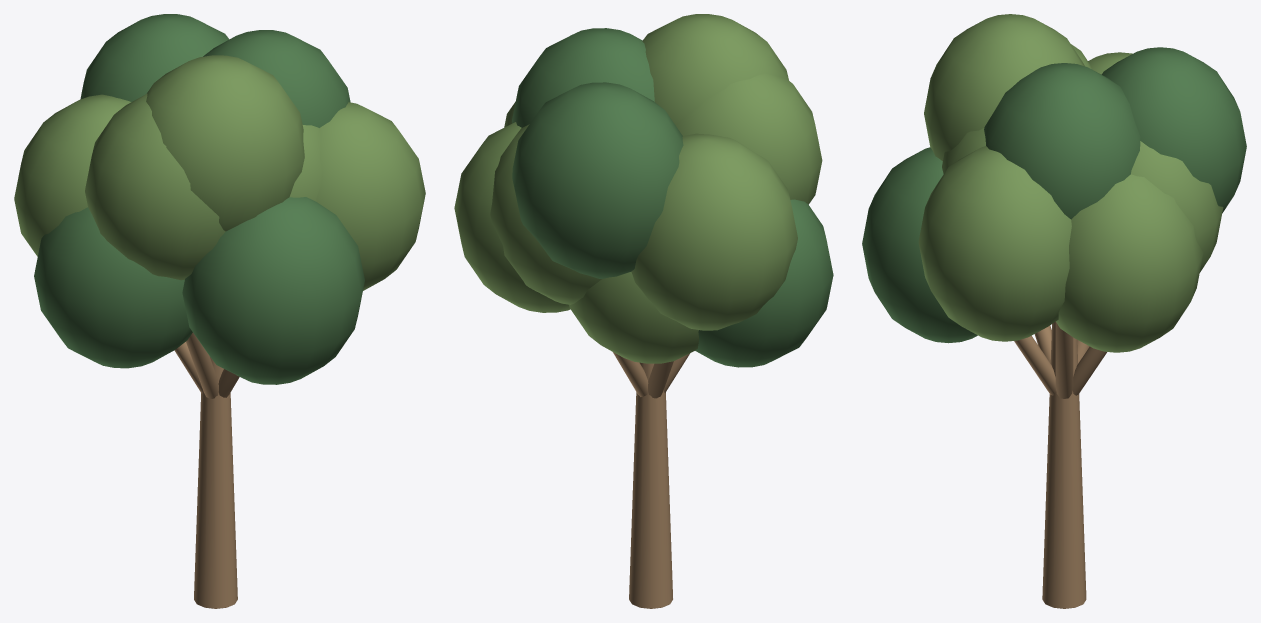
File: BirchTree.glb
The picture shows the model from 3 angles, left to right: view 1: azimuth 30°, elevation 25°; view 2: azimuth 150°, elevation 25°; view 3: azimuth 270°, elevation 25°; orthographic projection.
Parts seen in each view (by area): view 1: tree; view 2: tree; view 3: tree.
Part boxes in pixels (x1,y1,x2,y2): tree: (14, 14, 425, 608); tree: (454, 14, 833, 608); tree: (862, 14, 1246, 608).
Size of the model in its own units: 2.68 by 4.23 by 2.61.
